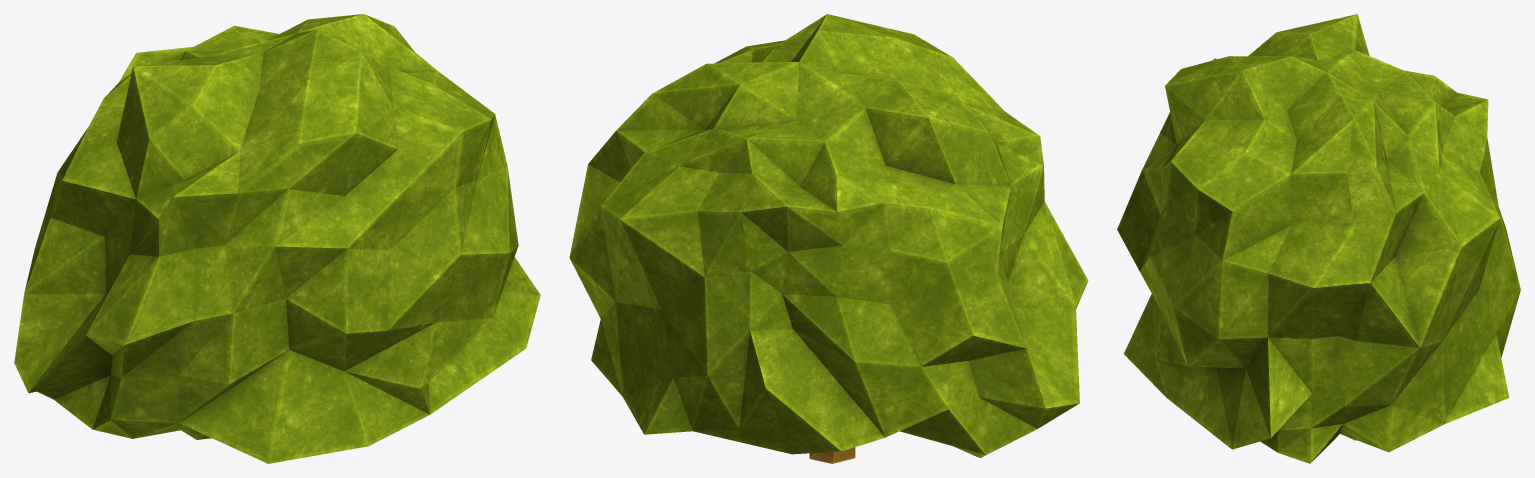
File: OakTree.gltf
3 renders of one model, left to right at view 1: azimuth 30°, elevation 25°; view 2: azimuth 150°, elevation 25°; view 3: azimuth 270°, elevation 25°, orthographic. The views are drawn at different scales.
Parts seen in each view (by area): view 1: node-0; view 2: node-0; view 3: node-0.
Part boxes in pixels (x1=…): node-0: x1=14, y1=14, x2=540, y2=463; node-0: x1=569, y1=14, x2=1088, y2=463; node-0: x1=1117, y1=14, x2=1520, y2=463.
Size of the model in its own units: 16.1 by 13.09 by 12.42.
1 material, 1 textured.
